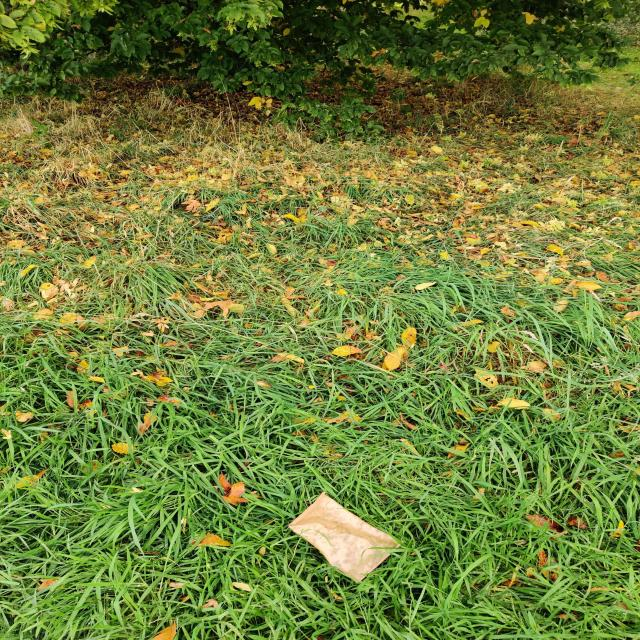litter: (285, 494, 406, 588)
